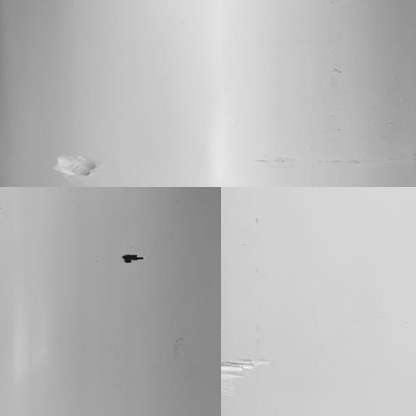kongdong: (119, 249, 143, 265)
sunshang: (217, 356, 271, 401), (52, 149, 104, 182)
